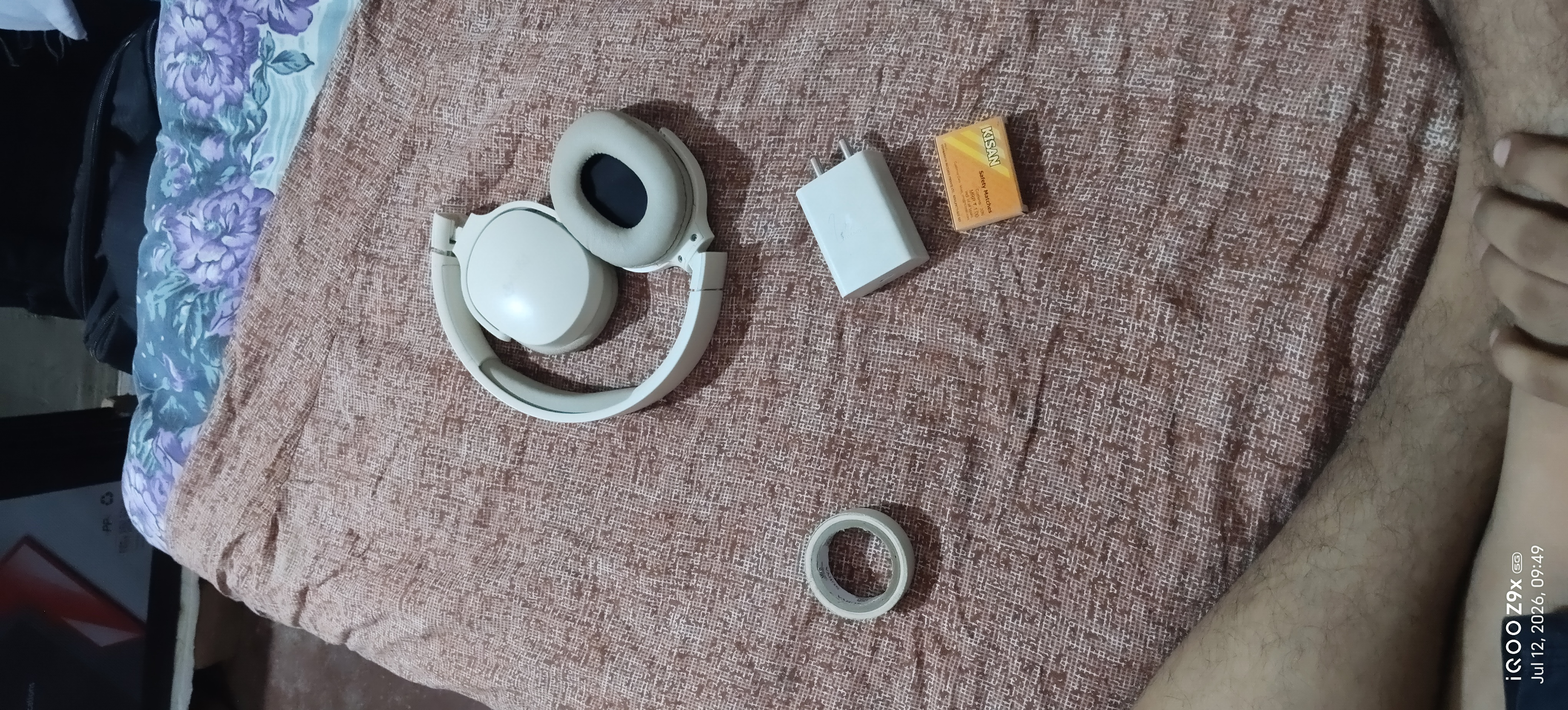charger: (789, 134, 934, 306)
matchbox: (928, 105, 1037, 243)
tape_roll: (791, 495, 943, 639)
